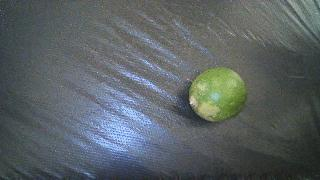DESECHO: (189, 68, 247, 122)
